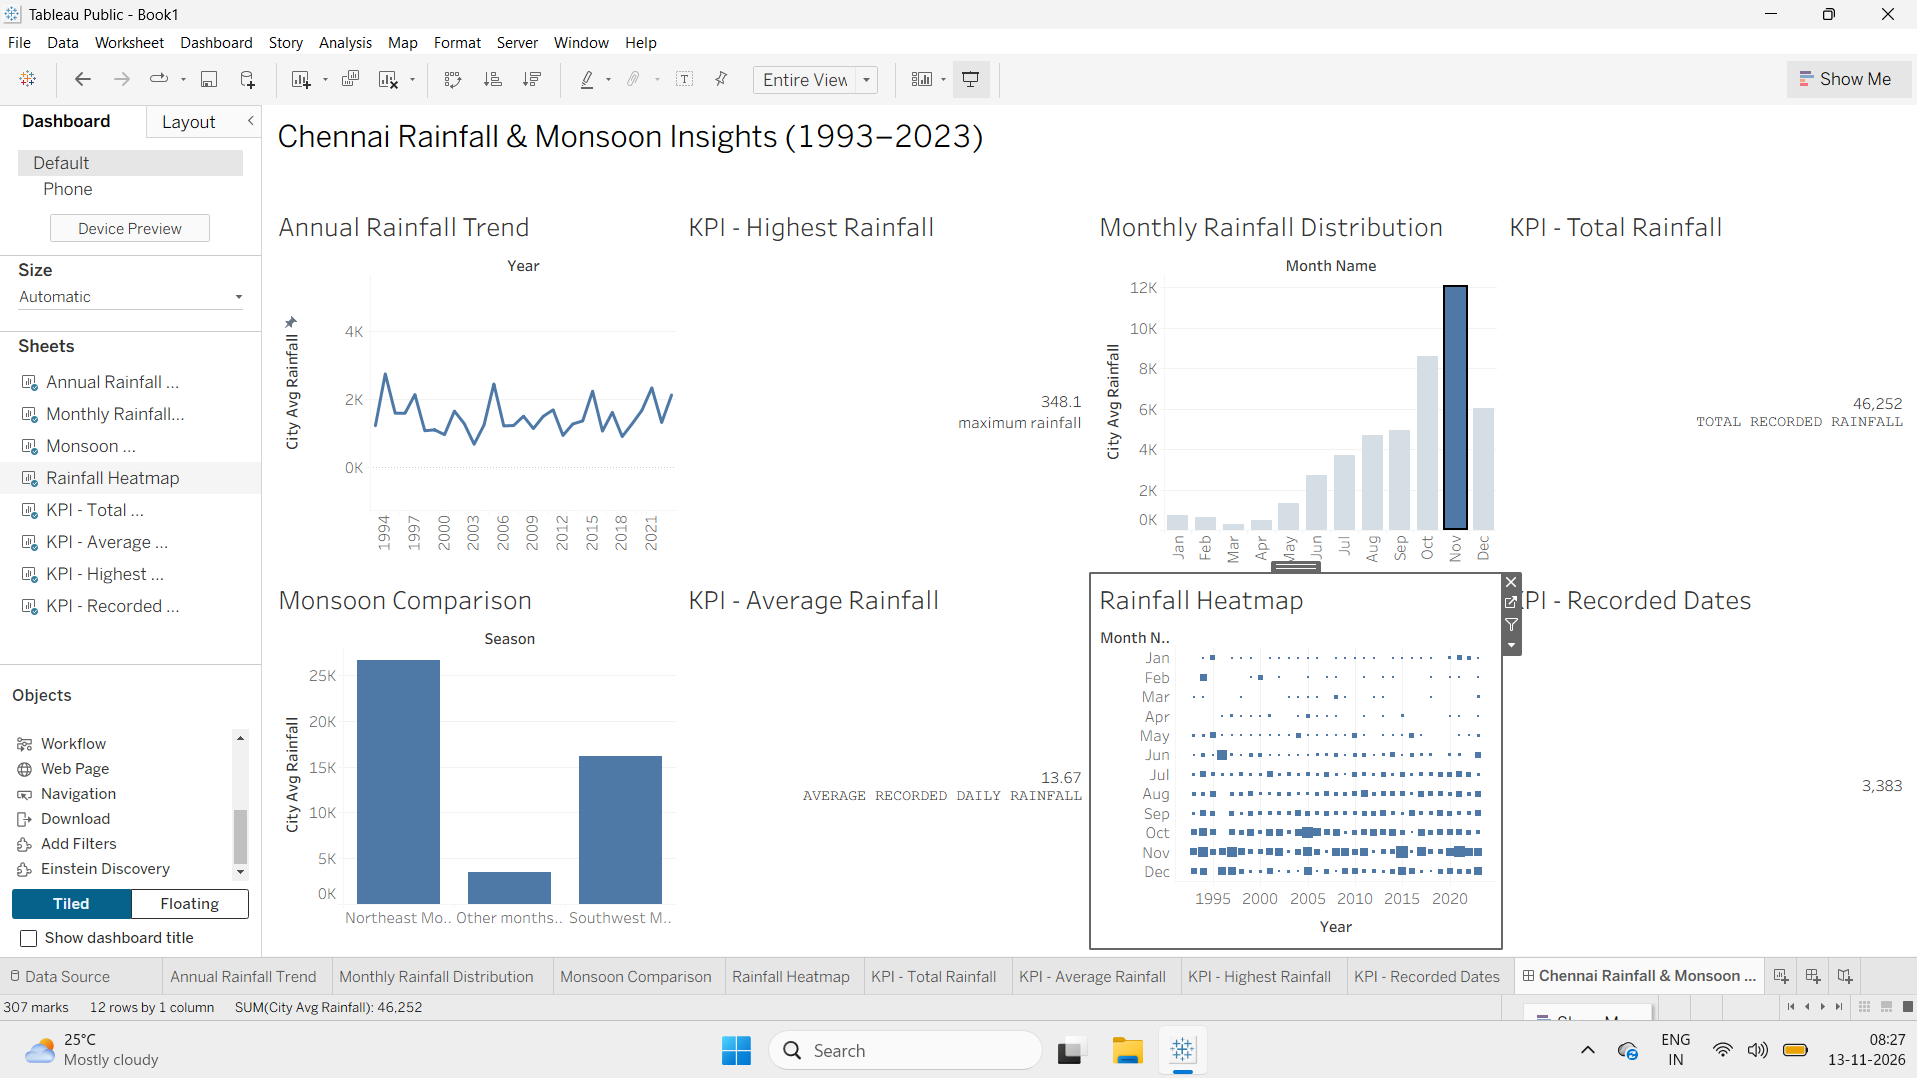

What the dashboard file says about the page in this screenshot:
{"tool":"tableau","page":{"name":"Chennai Rainfall & Monsoon Insights (1993–2023)","canvas":[1000,1000],"units":"permille","ordinal":0},"visuals":[{"type":"title","box":[4.8,9.4,990.3,103.4]},{"type":"worksheet","title":"Annual Rainfall Trend","mark":"Line","rows":["CityAvgRainfall"],"cols":["Year"],"box":[4.8,112.8,247.5,438.8]},{"type":"worksheet","title":"KPI - Highest Rainfall","mark":"Automatic","box":[252.3,112.8,247.7,438.8]},{"type":"worksheet","title":"Monthly Rainfall Distribution","mark":"Bar","rows":["CityAvgRainfall"],"cols":["Month Name"],"box":[500,112.8,247.5,438.8]},{"type":"worksheet","title":"KPI - Total Rainfall","mark":"Text","box":[747.5,112.8,247.6,438.8]},{"type":"worksheet","title":"Monsoon Comparison","mark":"Bar","rows":["CityAvgRainfall"],"cols":["Season"],"box":[4.8,551.6,247.5,438.9]},{"type":"worksheet","title":"KPI - Average Rainfall","mark":"Automatic","box":[252.3,551.6,247.7,438.9]},{"type":"worksheet","title":"Rainfall Heatmap","mark":"Square","rows":["Month Name"],"cols":["Year"],"box":[500,551.6,247.5,438.9]},{"type":"worksheet","title":"KPI - Recorded Dates","mark":"Automatic","box":[747.5,551.6,247.6,438.9]}]}

Visuals, with their boxes on the dashboard's canvas, which has no fixed pixel size, in thousandths of its width and height (x1, y1, x2, y2). These are canvas units, not pixel positions in the 1917x1078 screenshot, which may show the page scaled, cropped or inside an application window:
title: left=5, top=9, right=995, bottom=113
"Annual Rainfall Trend" worksheet (Line marks): left=5, top=113, right=252, bottom=552
"KPI - Highest Rainfall" worksheet: left=252, top=113, right=500, bottom=552
"Monthly Rainfall Distribution" worksheet (Bar marks): left=500, top=113, right=748, bottom=552
"KPI - Total Rainfall" worksheet (Text marks): left=748, top=113, right=995, bottom=552
"Monsoon Comparison" worksheet (Bar marks): left=5, top=552, right=252, bottom=990
"KPI - Average Rainfall" worksheet: left=252, top=552, right=500, bottom=990
"Rainfall Heatmap" worksheet (Square marks): left=500, top=552, right=748, bottom=990
"KPI - Recorded Dates" worksheet: left=748, top=552, right=995, bottom=990
